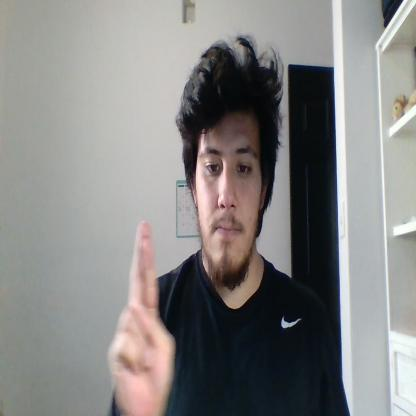R: (107, 220, 176, 415)
